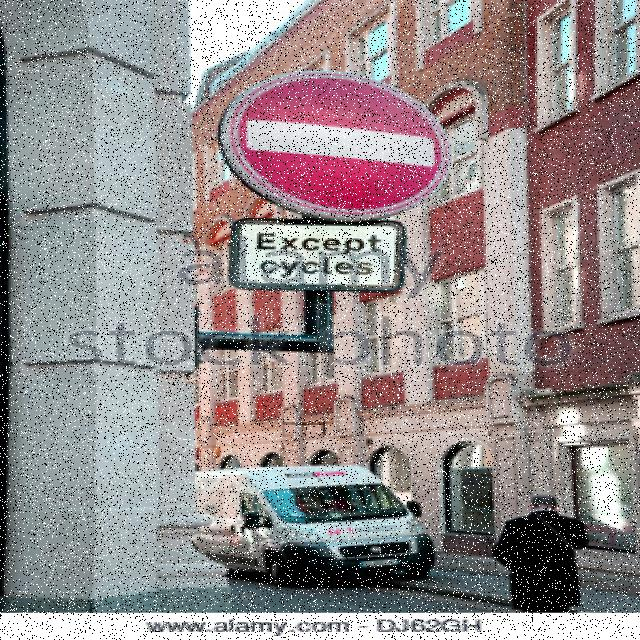no entry: (216, 72, 450, 221)
